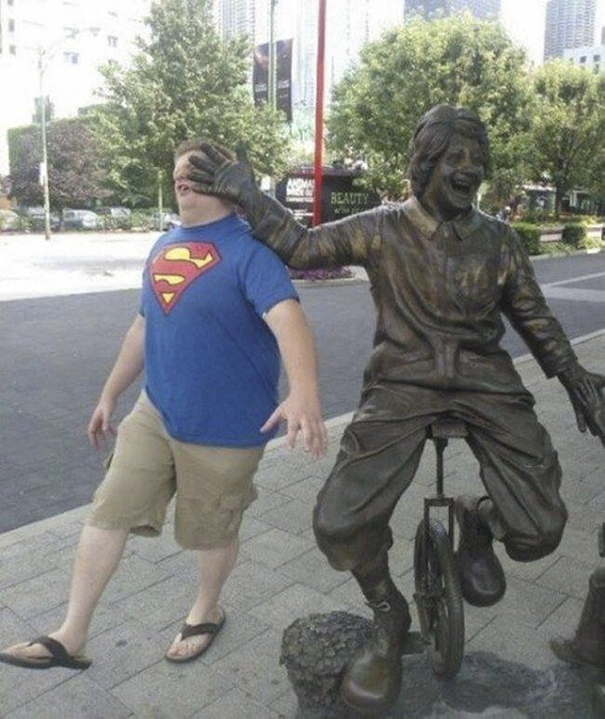person: (1, 136, 333, 676)
person-like: (184, 97, 605, 716)
